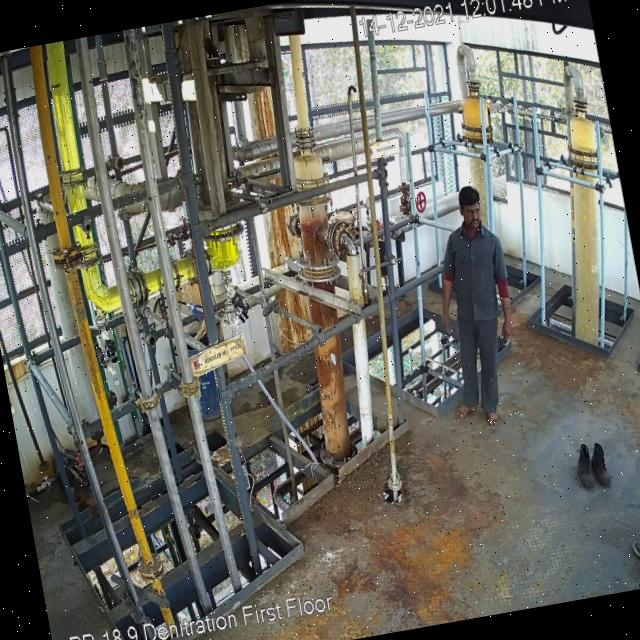boots: (571, 439, 601, 492), (588, 441, 614, 486)
no-boots: (452, 400, 478, 419), (482, 408, 501, 431)
